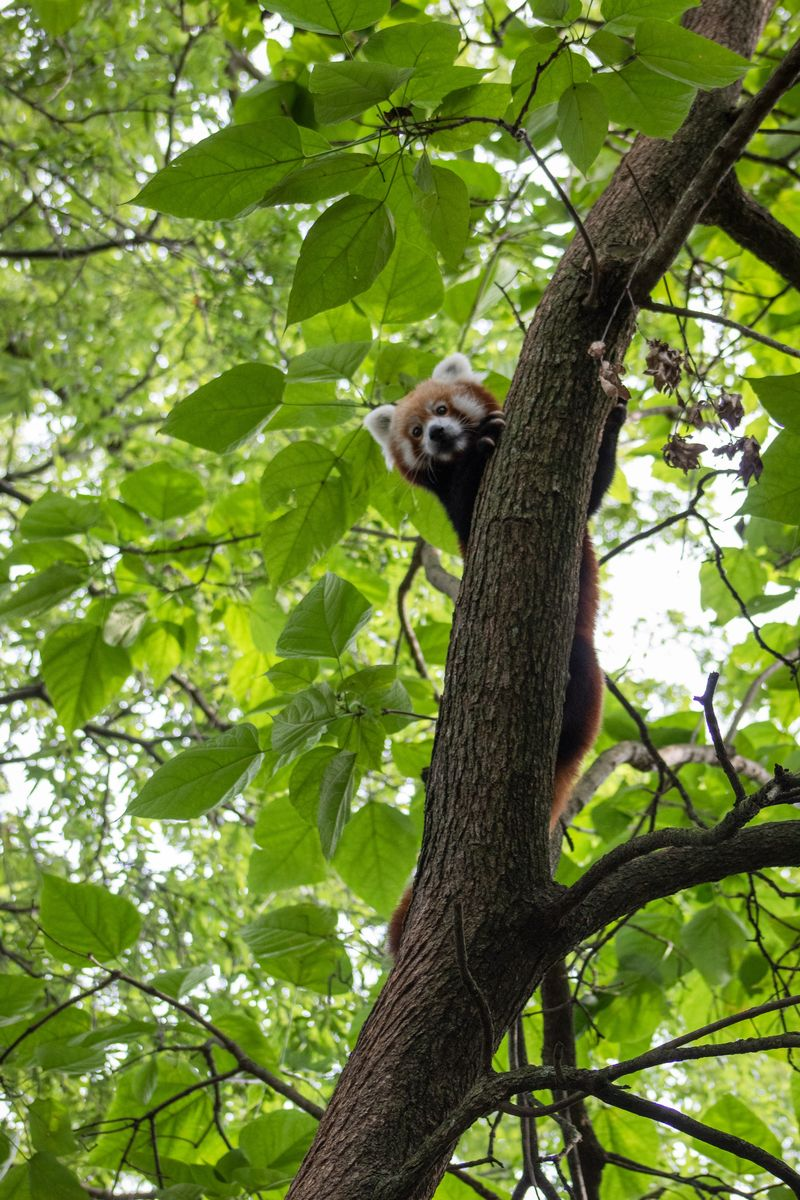red_panda: (359, 347, 635, 847)
